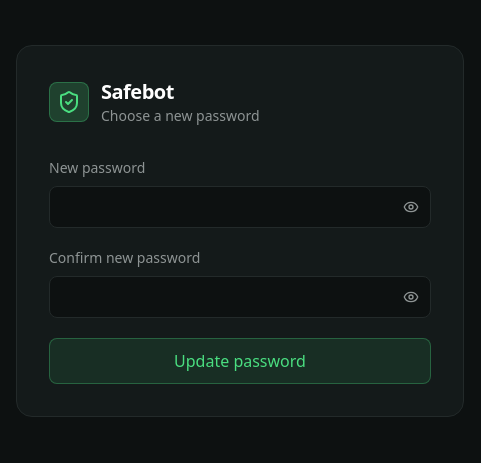
ResetPasswordPage › shows error when password is fewer than 8 characters
The image size is (481, 463).
Type "short" into the password field labelled "New password" at x=240, y=207, box [49,186,431,228]
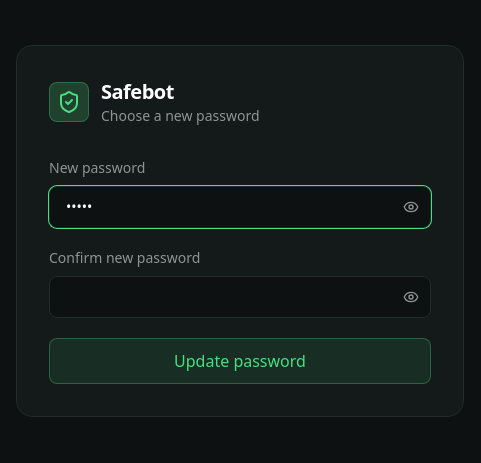
Type "short" into the password field labelled "Confirm new password" at x=240, y=297, box [49,276,431,318]
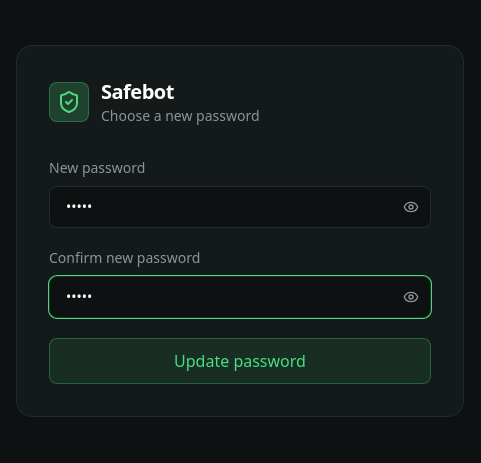
Click the button "Update password" at x=240, y=361, box [49,338,431,384]
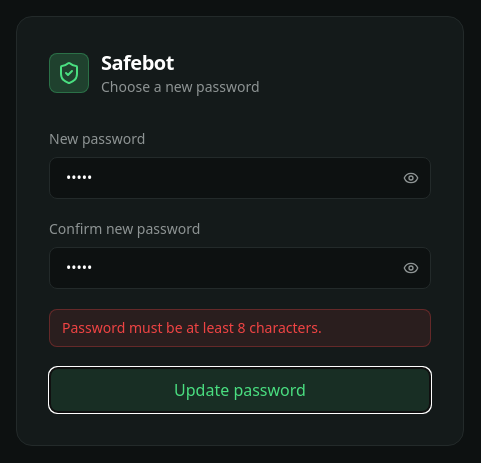
Check: the text "Password must be at least 8 characters." is shown, box [62,318,322,337]
